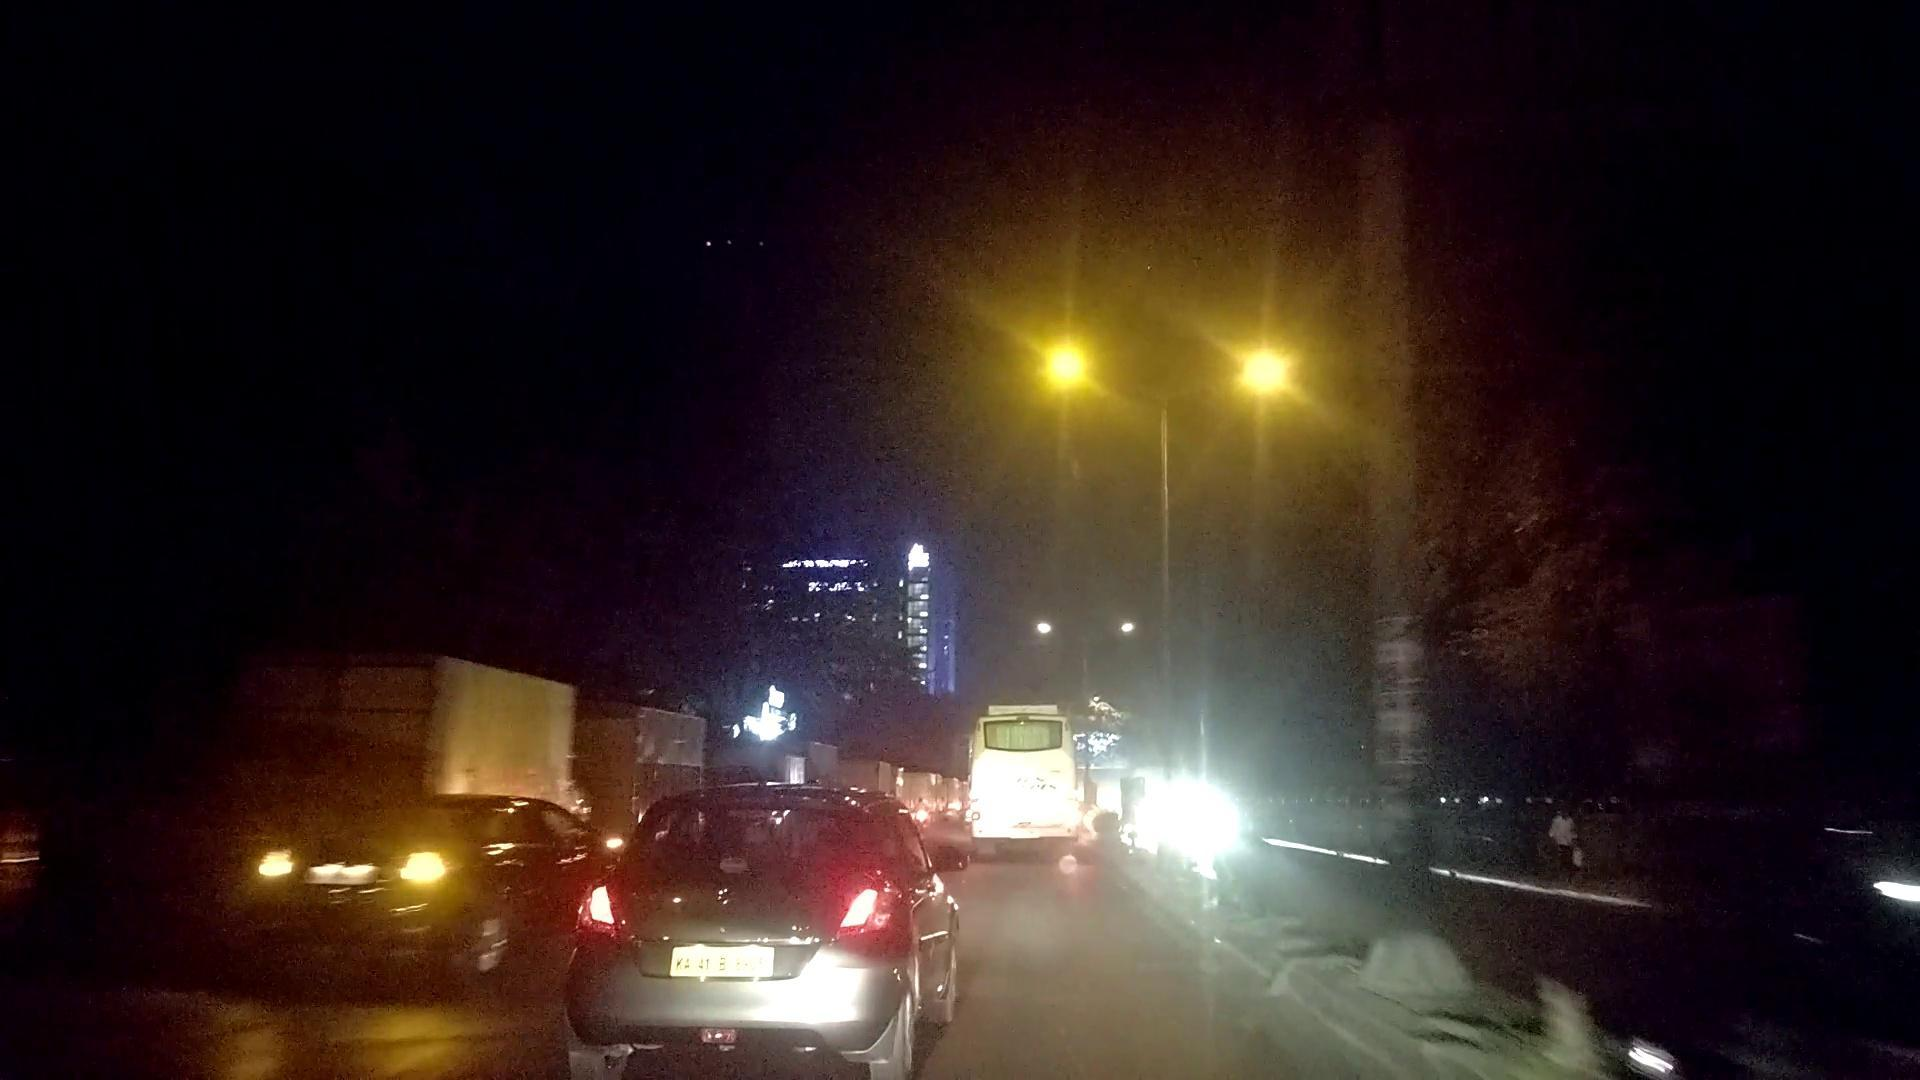on: (800, 262, 1567, 516)
